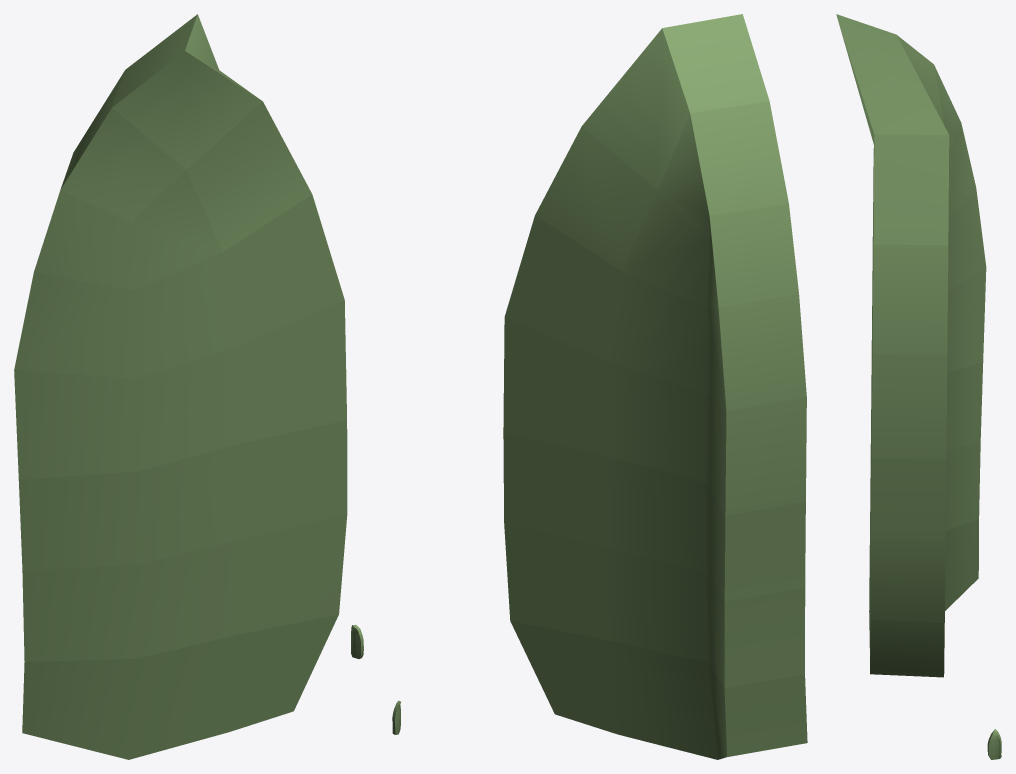
File: leaves2.fbx
The picture shows the model from 3 angles, left to right: view 1: azimuth 30°, elevation 25°; view 2: azimuth 150°, elevation 25°; view 3: azimuth 270°, elevation 25°; orthographic projection. The views are drawn at different scales.
Parts seen in each view (by area): view 1: pasted__polySurface1; view 2: pasted__polySurface1; view 3: pasted__polySurface1 (×2).
Boxes of the visible parts, box(x1,y1,x2,y2) form: pasted__polySurface1: box(14, 14, 347, 759); pasted__polySurface1: box(503, 14, 807, 759); pasted__polySurface1 (×2): box(836, 14, 1001, 759).
Size of the model in its own units: 2.06 by 3.77 by 0.8927.
